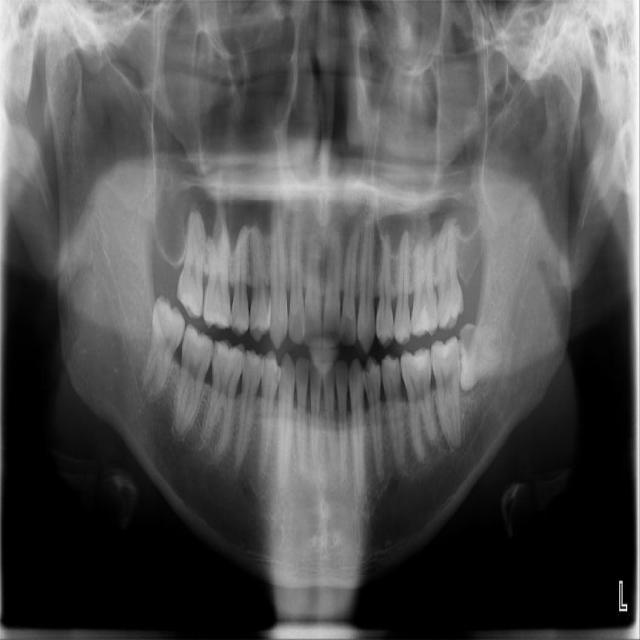52: (407, 290, 442, 340), (427, 335, 464, 381), (398, 346, 436, 390)
73: (604, 585, 610, 599)
BioHorizons Implant: (435, 213, 465, 330)
Biomet 3i Implant: (456, 322, 505, 392)
Blue Sky Bio Implant: (430, 335, 462, 448)
Caries: (176, 206, 208, 319)
Implant: (172, 323, 216, 440)
Keystone Dental Implant: (138, 293, 190, 402)
